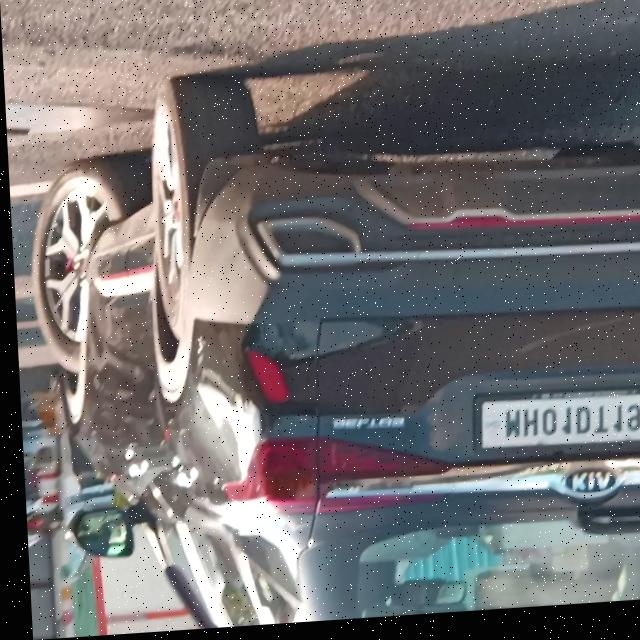plate: (466, 393, 640, 462)
